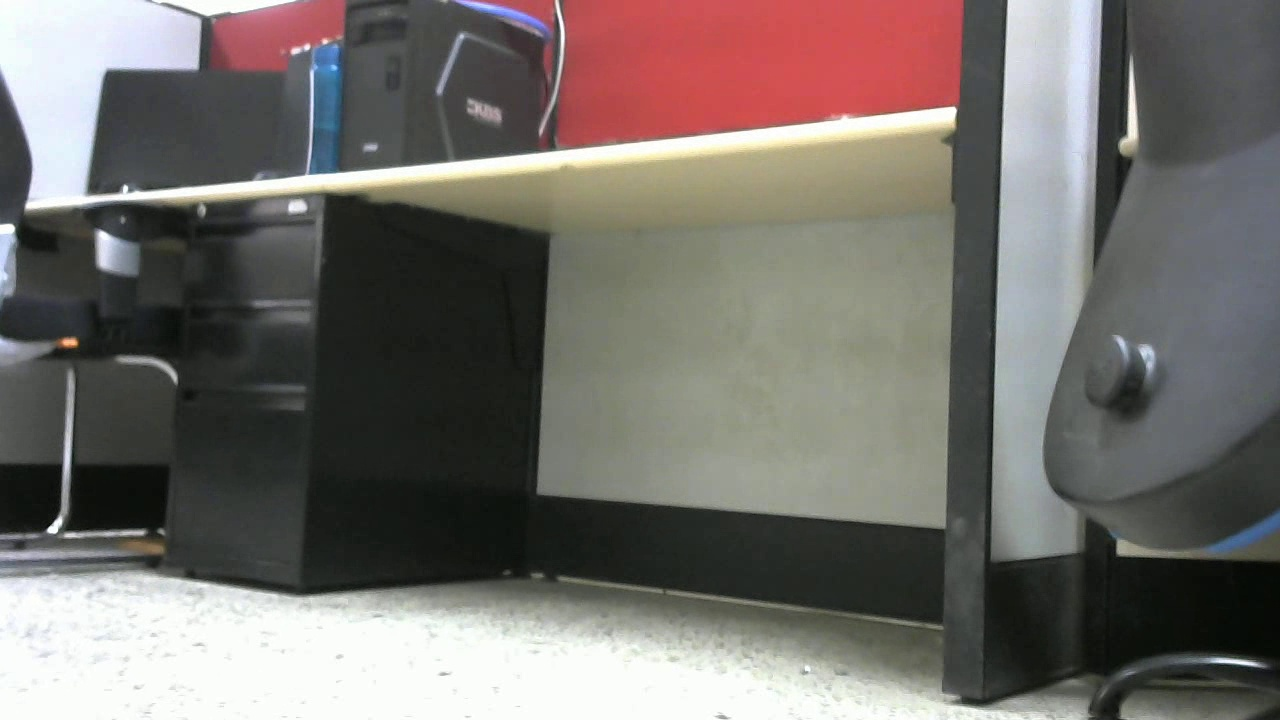chair: (1, 62, 201, 579)
